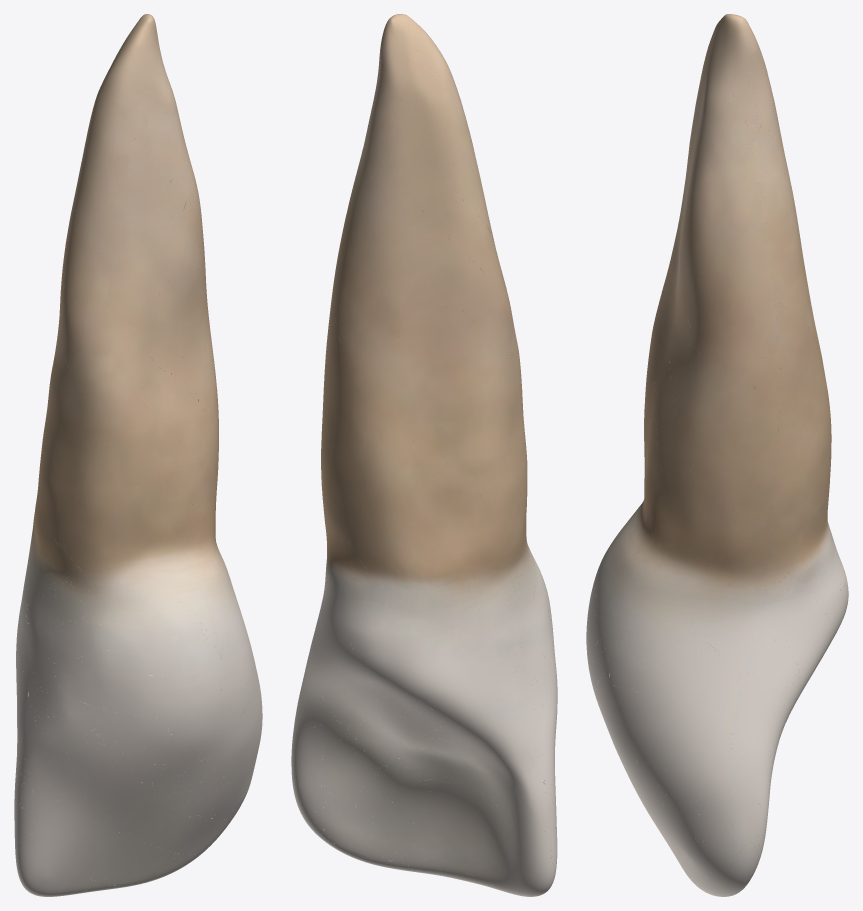
3 views of the same model, side by side, from view 1: azimuth 30°, elevation 25°; view 2: azimuth 150°, elevation 25°; view 3: azimuth 270°, elevation 25° (orthographic). The views are drawn at different scales.
Parts seen in each view (by area): view 1: diente-62 (×2); view 2: diente-62 (×2); view 3: diente-62 (×2).
Boxes of the visible parts, <box> form: diente-62 (×2): <box>14,14,262,896</box>; diente-62 (×2): <box>291,14,557,896</box>; diente-62 (×2): <box>586,14,848,896</box>.
Size of the model in its own units: 0.00468 by 0.0158 by 0.00433.
1 material, 1 textured.
